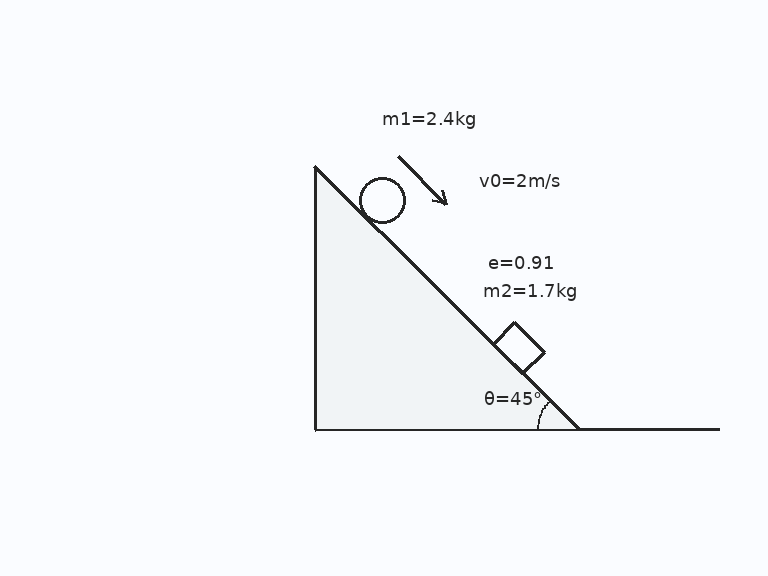ball: (357, 175, 407, 225)
block: (491, 320, 546, 375)
ramp: (312, 163, 580, 431)
